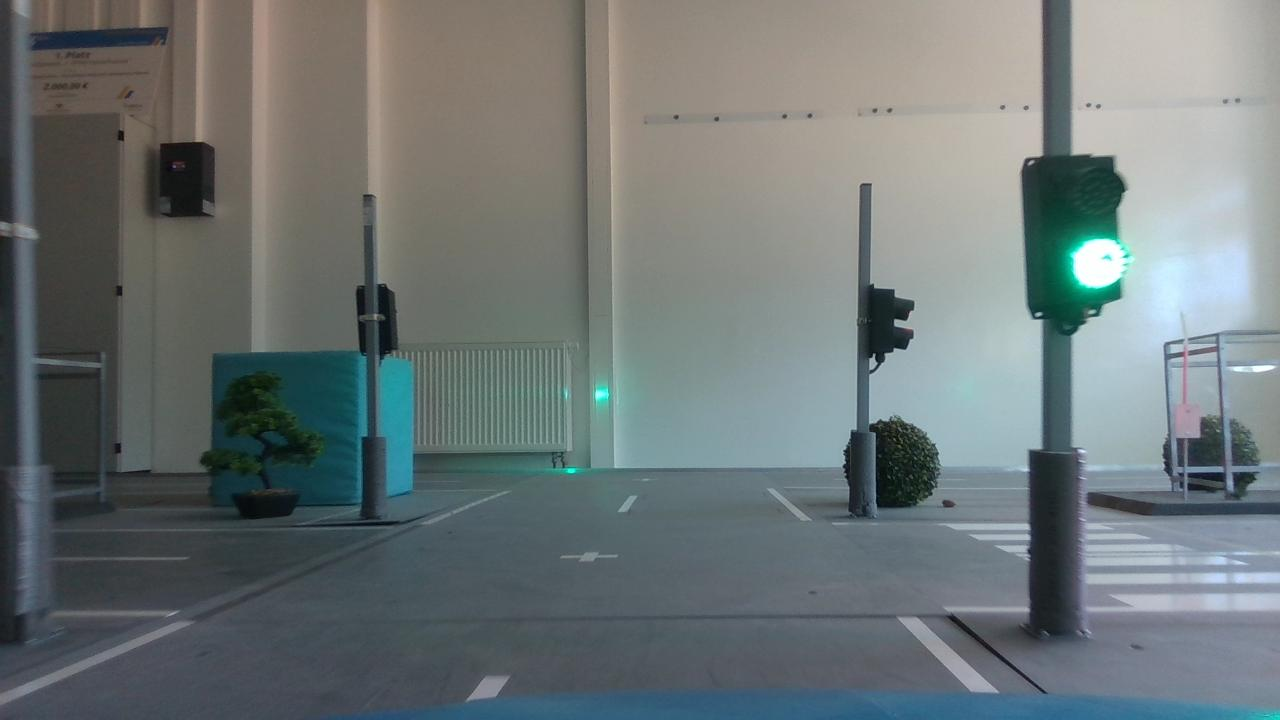traffic_light_green: (997, 139, 1143, 342)
